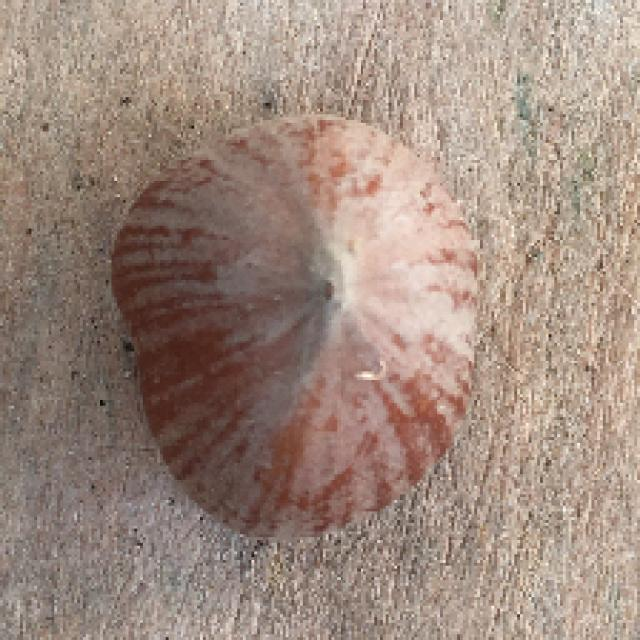qualityHazelnut: (97, 112, 489, 532)
